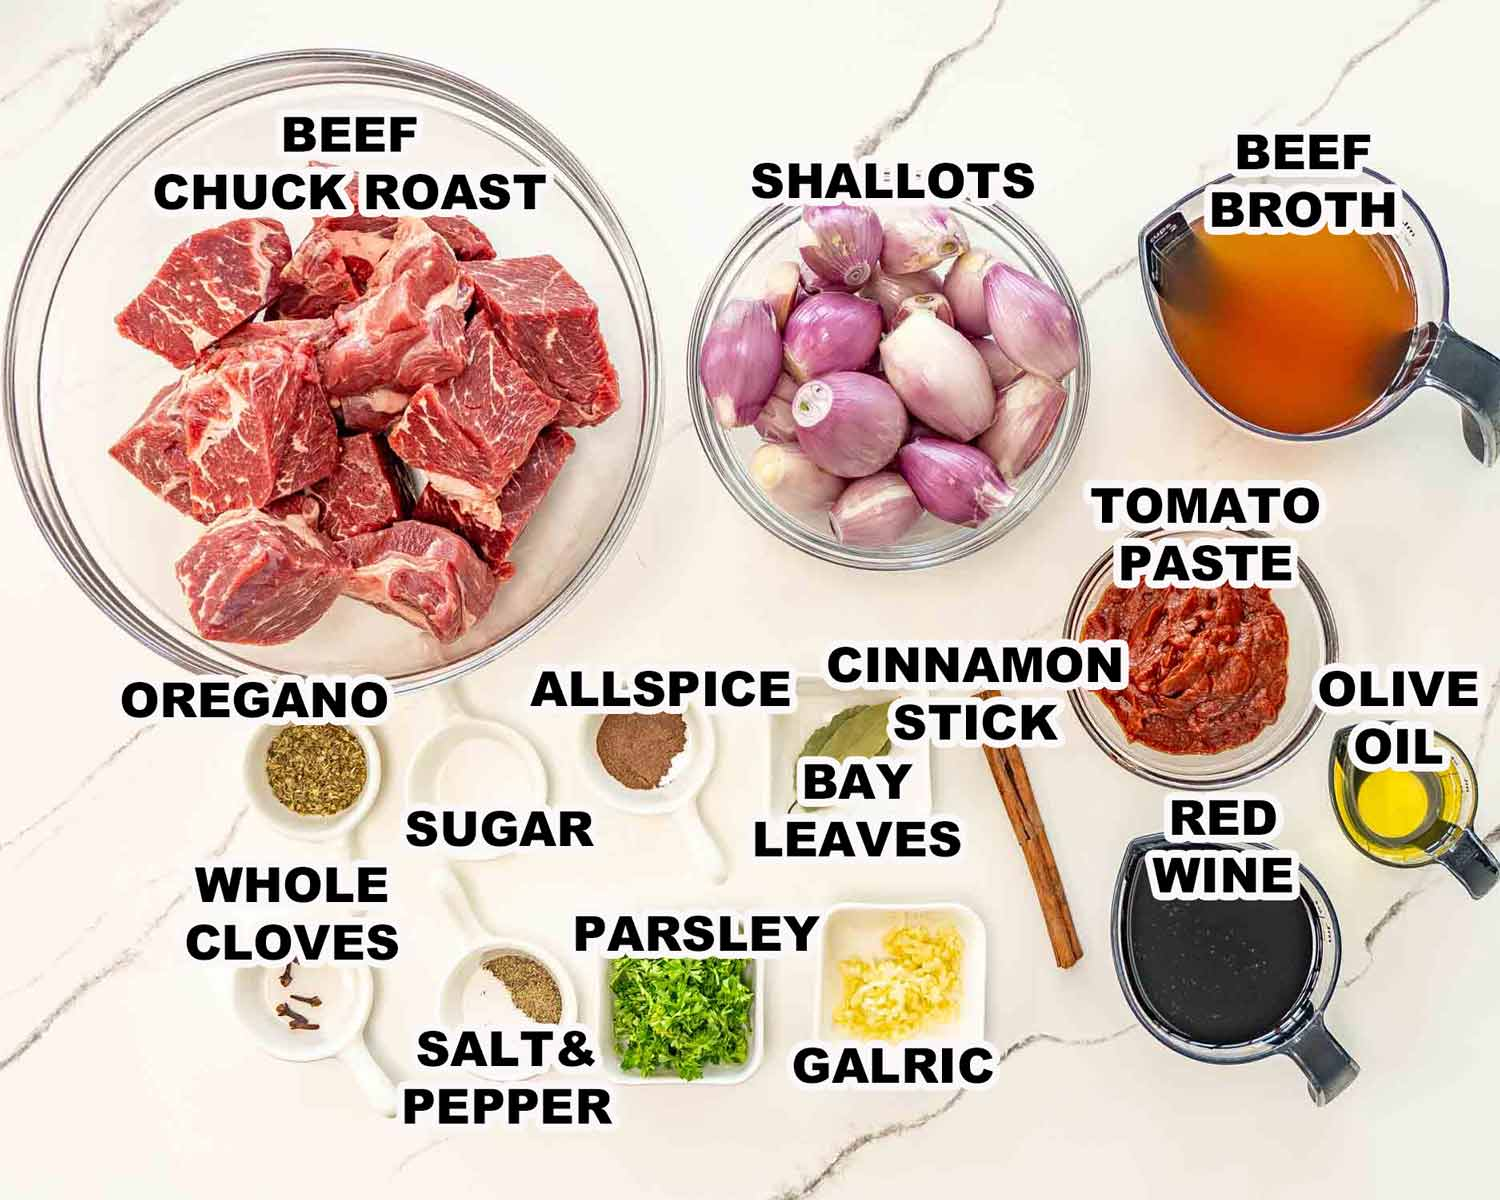Beef: (100, 193, 616, 655)
Onion: (876, 302, 999, 441), (773, 366, 921, 479), (696, 278, 790, 452), (776, 279, 912, 396), (970, 257, 1082, 394), (889, 440, 1022, 530), (987, 366, 1079, 492), (820, 467, 942, 558), (785, 193, 879, 287), (877, 196, 975, 273)
